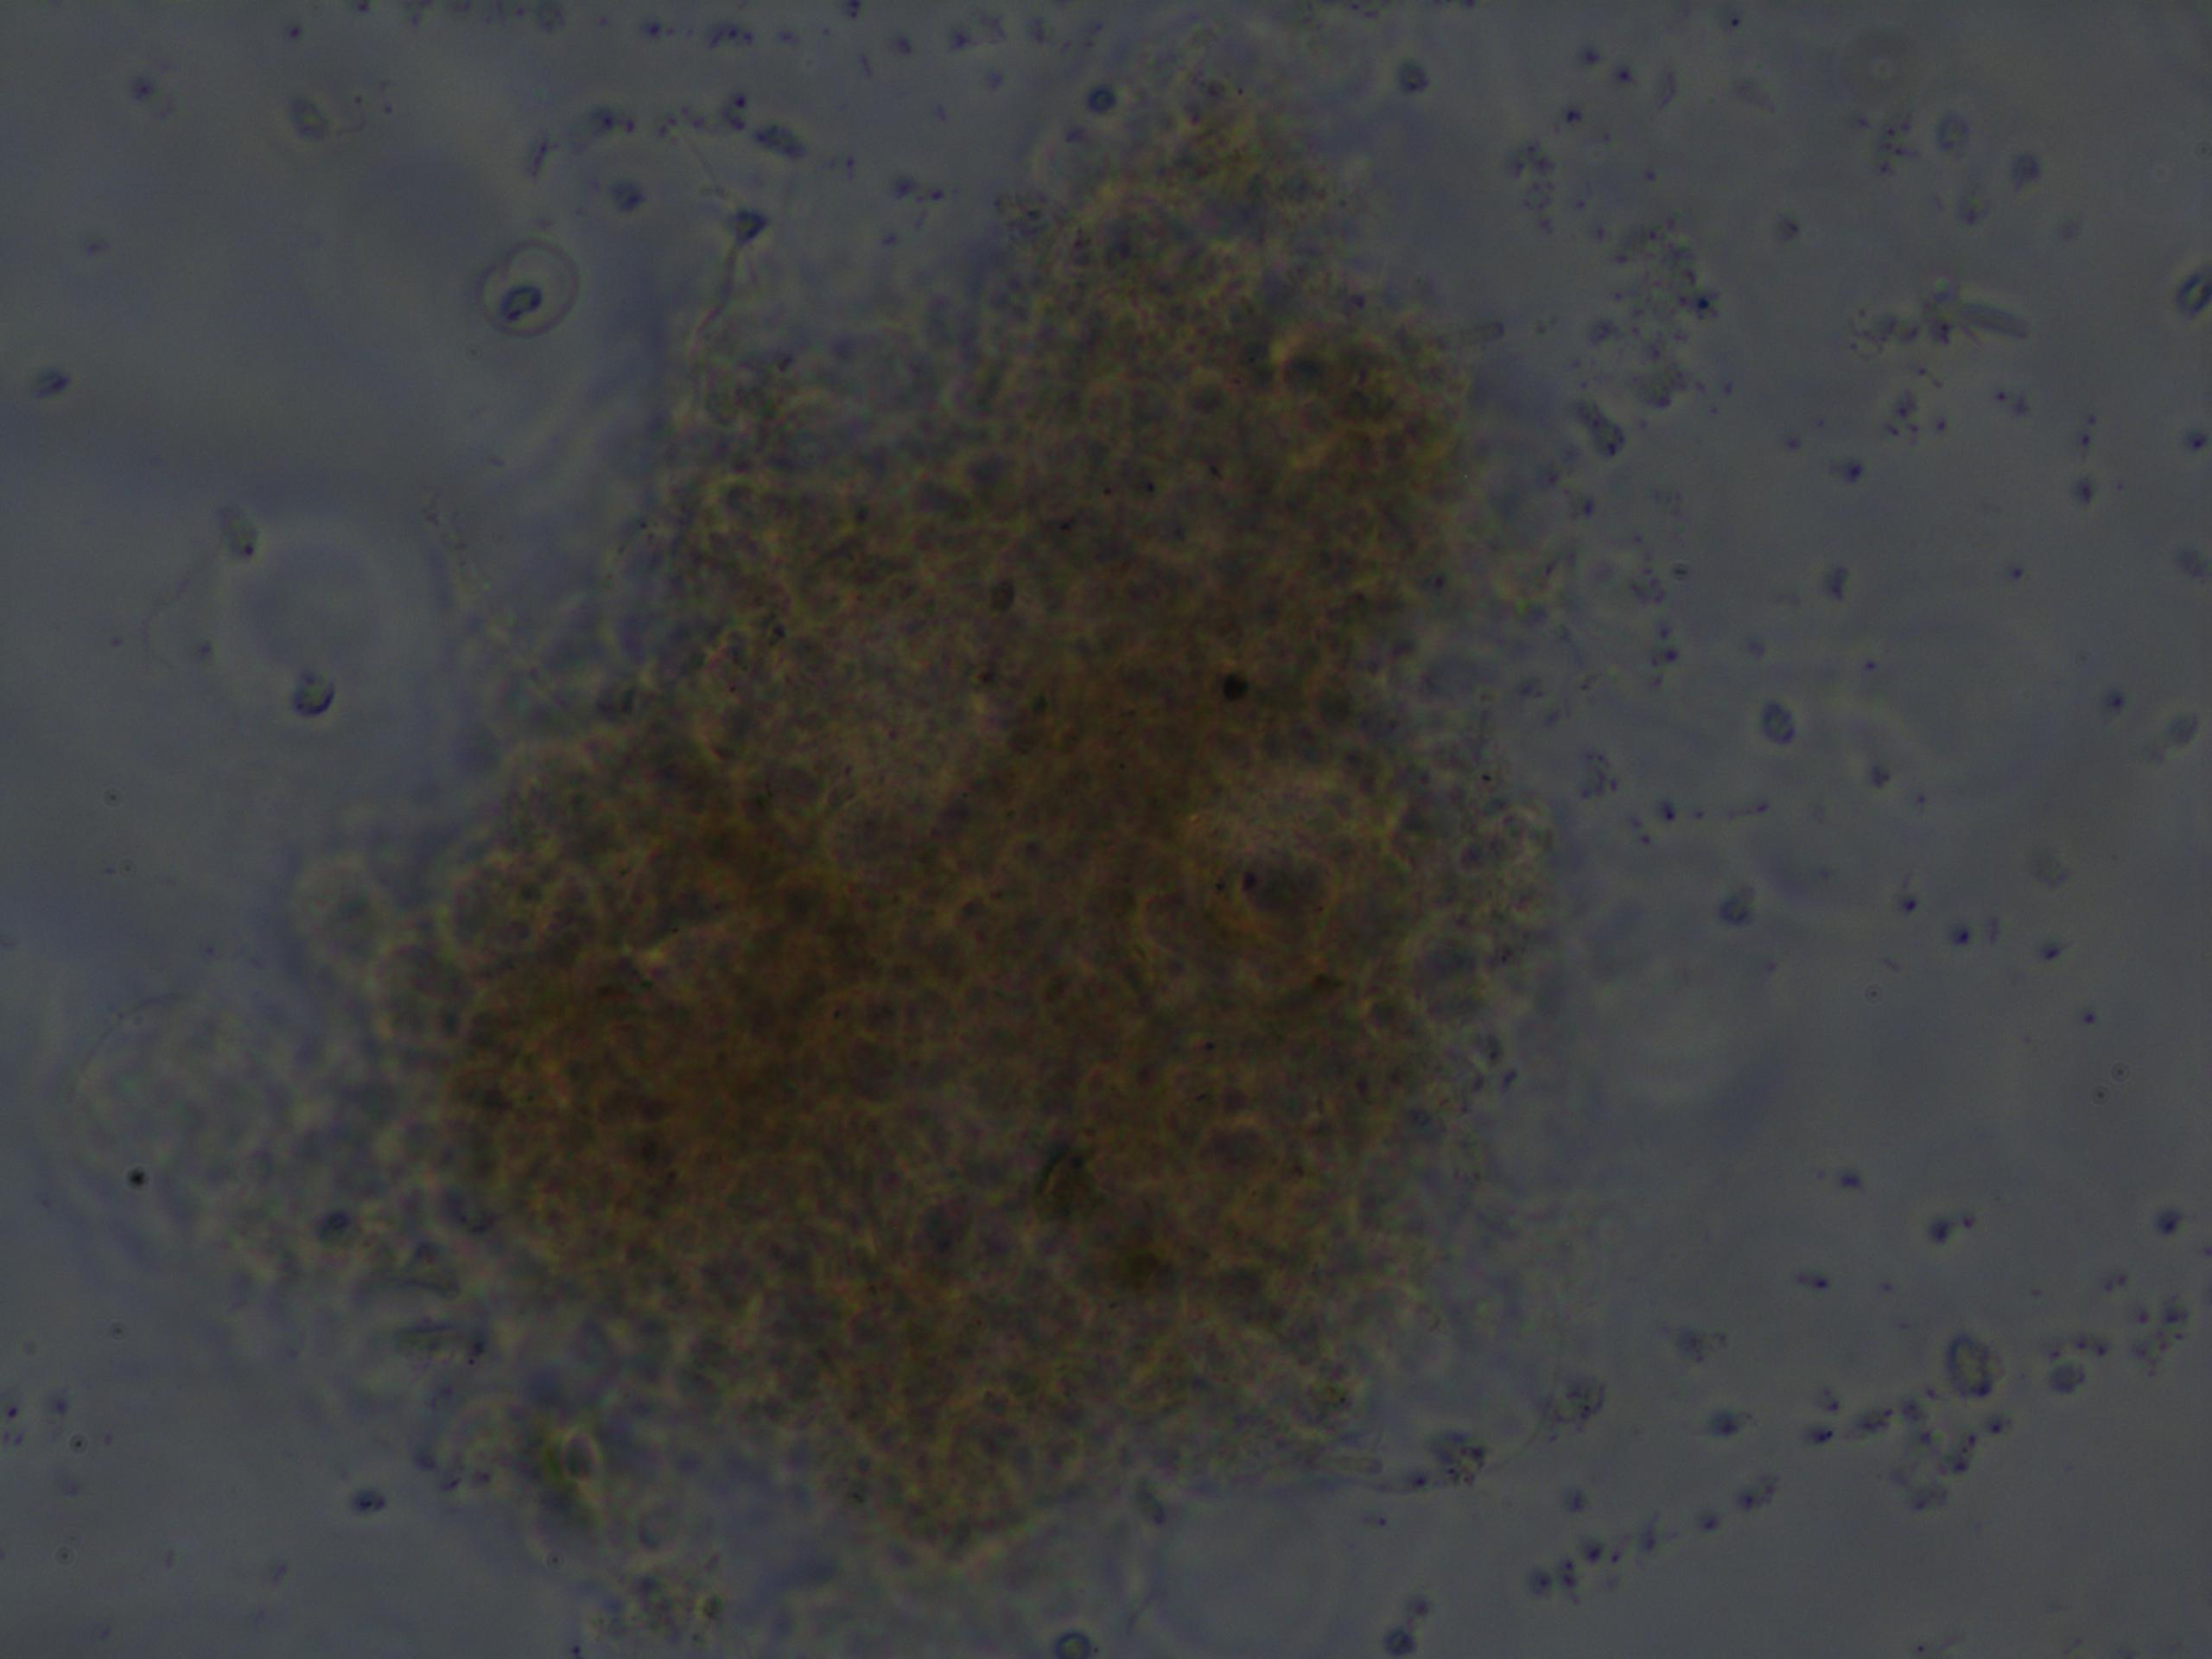spherical_floc: (320, 66, 1576, 1544)
